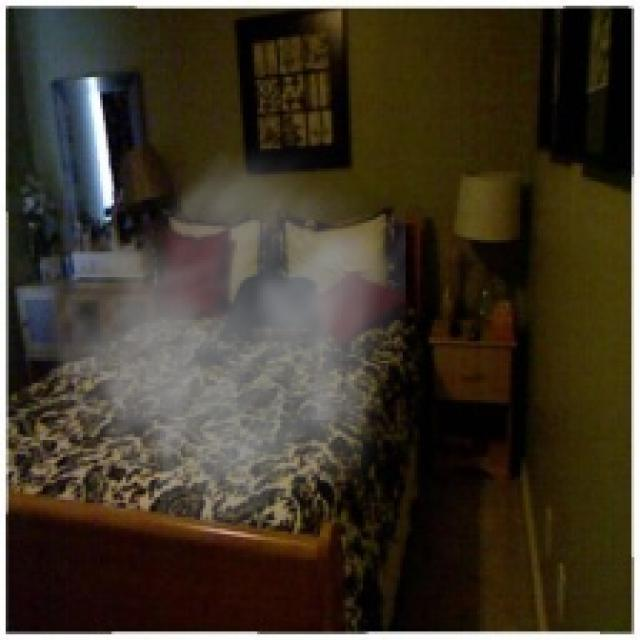Smoke: (11, 135, 406, 554)
